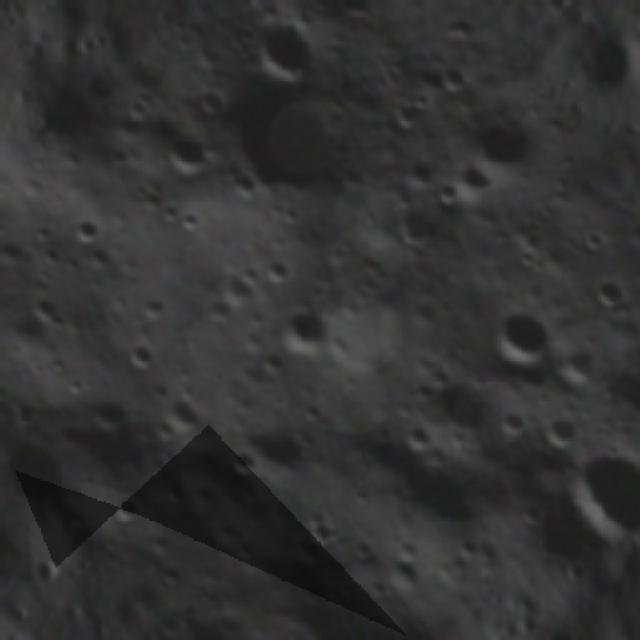crater: (551, 434, 640, 523), (242, 9, 327, 93), (482, 306, 561, 382), (274, 296, 348, 370), (158, 128, 215, 188), (214, 432, 271, 492), (528, 411, 587, 466), (585, 268, 638, 321), (428, 56, 481, 104), (113, 333, 162, 384), (550, 346, 599, 396), (159, 390, 206, 439), (102, 483, 149, 531), (418, 170, 465, 218), (487, 402, 533, 447), (292, 512, 338, 556), (62, 208, 106, 252), (257, 250, 300, 292), (571, 217, 615, 258), (23, 288, 65, 330), (398, 419, 438, 459), (194, 81, 232, 121), (399, 85, 435, 121), (58, 368, 92, 402), (345, 535, 378, 568), (173, 205, 205, 238), (296, 0, 410, 6), (23, 356, 49, 382), (267, 637, 295, 640)
